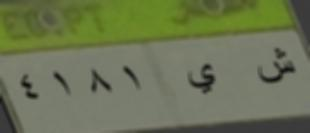1: (52, 65, 75, 100), (123, 63, 141, 94)
4: (20, 70, 41, 104)
8: (86, 65, 112, 98)
sheen: (253, 44, 300, 88)
yaa: (181, 59, 217, 100)
